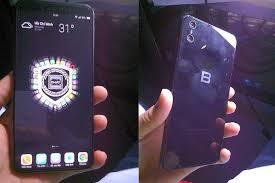bphone: (154, 10, 240, 170)
